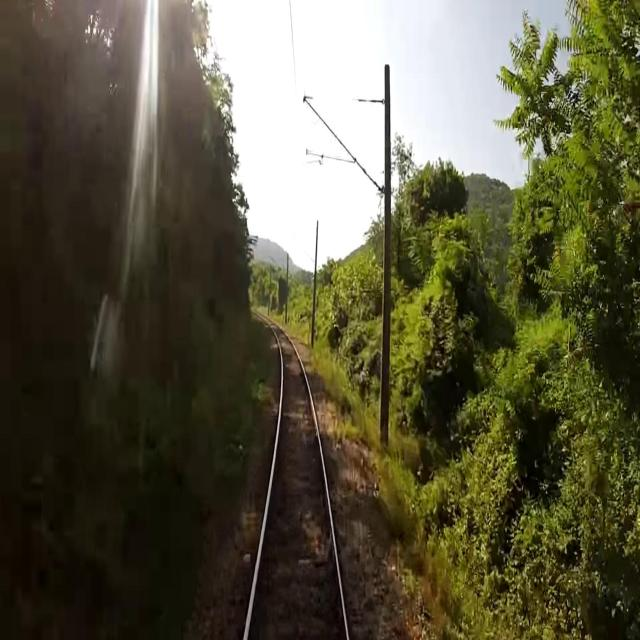rail-track: (248, 322, 345, 639)
